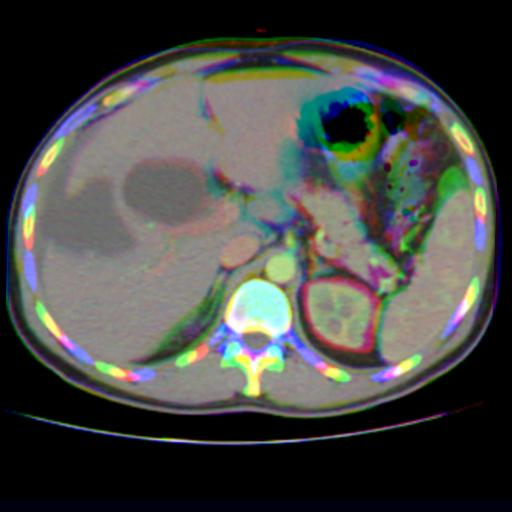Cyst: (41, 179, 132, 255), (124, 160, 210, 225)
